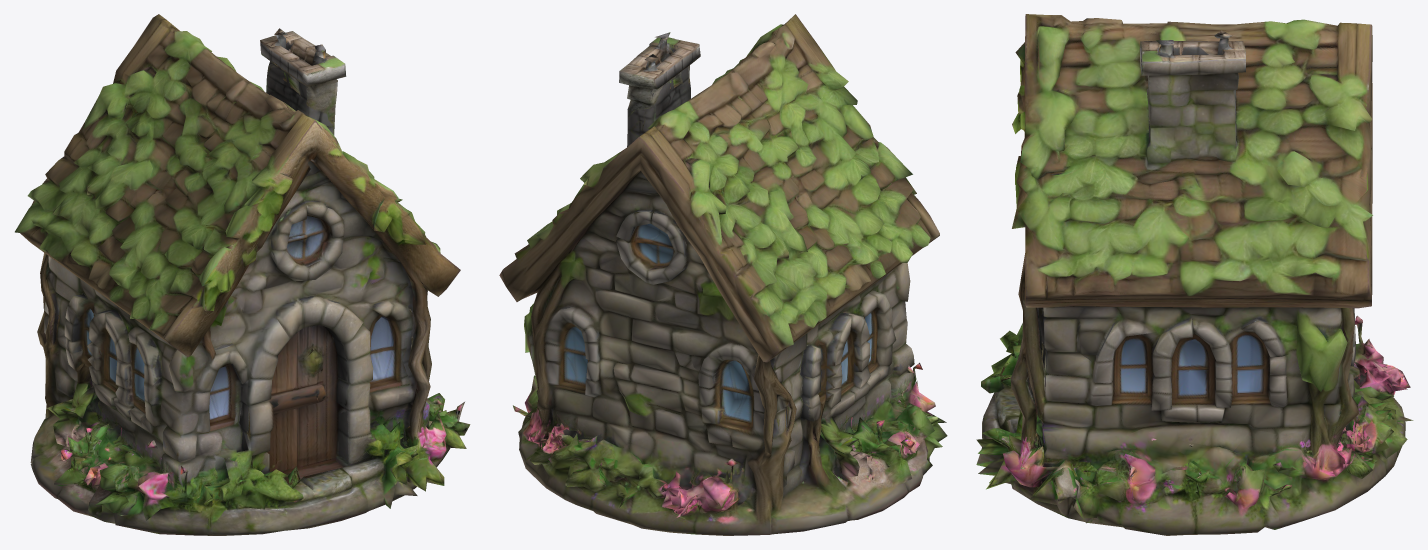
File: Meshy_AI_Enchanted_Cottage_0206220057_texture.glb
3 views of the same model, side by side, from view 1: azimuth 30°, elevation 25°; view 2: azimuth 150°, elevation 25°; view 3: azimuth 270°, elevation 25° (orthographic). The views are drawn at different scales.
Bounding box in the file's own units: 1.93 × 2 × 1.81.
Materials: 1 (1 with a texture image).
